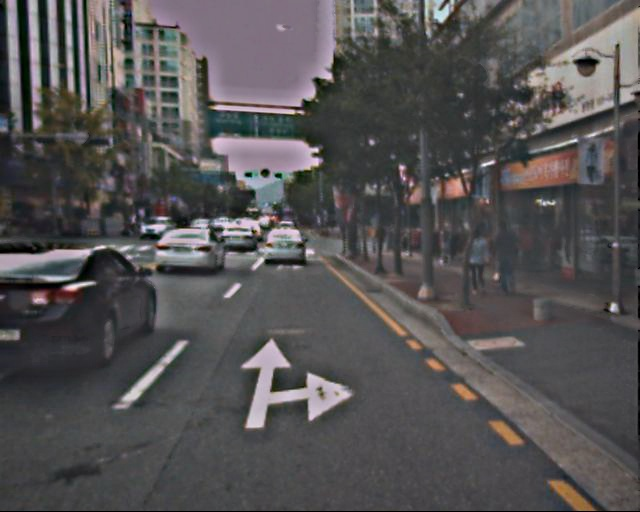person: (487, 219, 520, 299), (462, 228, 491, 298)
